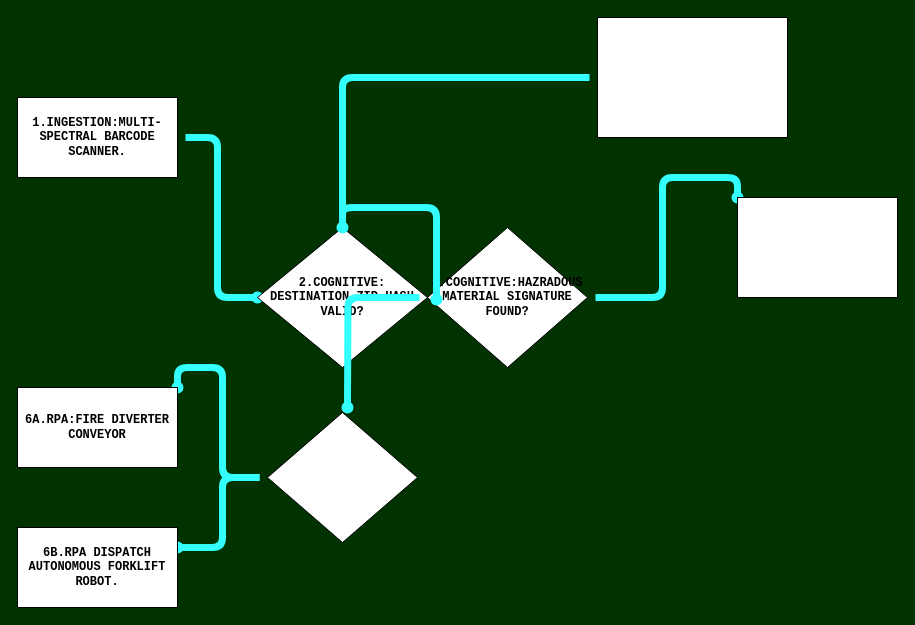
Image size: 915x625. Some labels were removed from this diagram. The shapes that lost their labels are listed below. From the top down, each one's box as (x1, y1, x2, y2) in pixels, then its label:
(596, 16, 788, 138): 3A.RPA:ROUTE TO MAUNUAL ISOLATION SLIP.
(736, 196, 898, 298): 5B.;RPA:DIVERT TO SEALED BIO-BUNKER.
(266, 412, 418, 542): 5.COGNITIVE MASS >=15.0KG?
